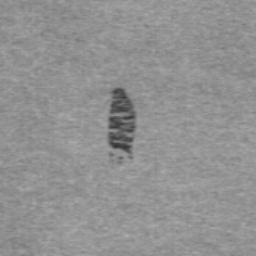Secondary rust skin: (107, 86, 136, 155)
